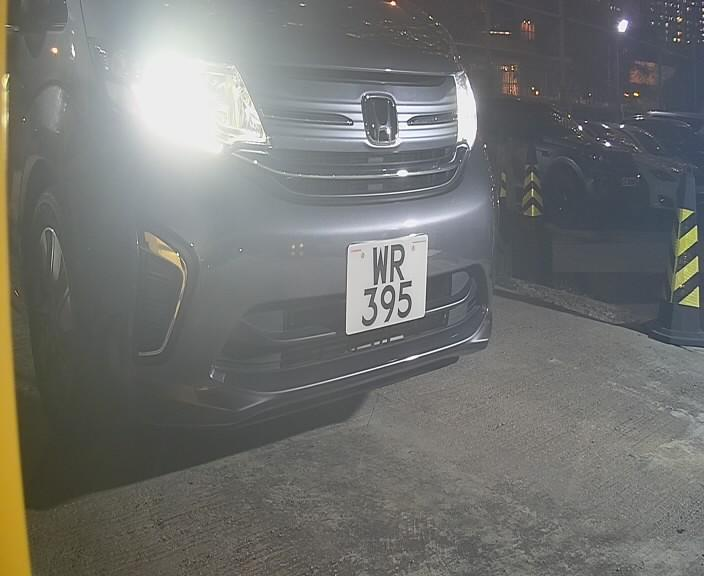License Plate: (337, 232, 437, 348)
